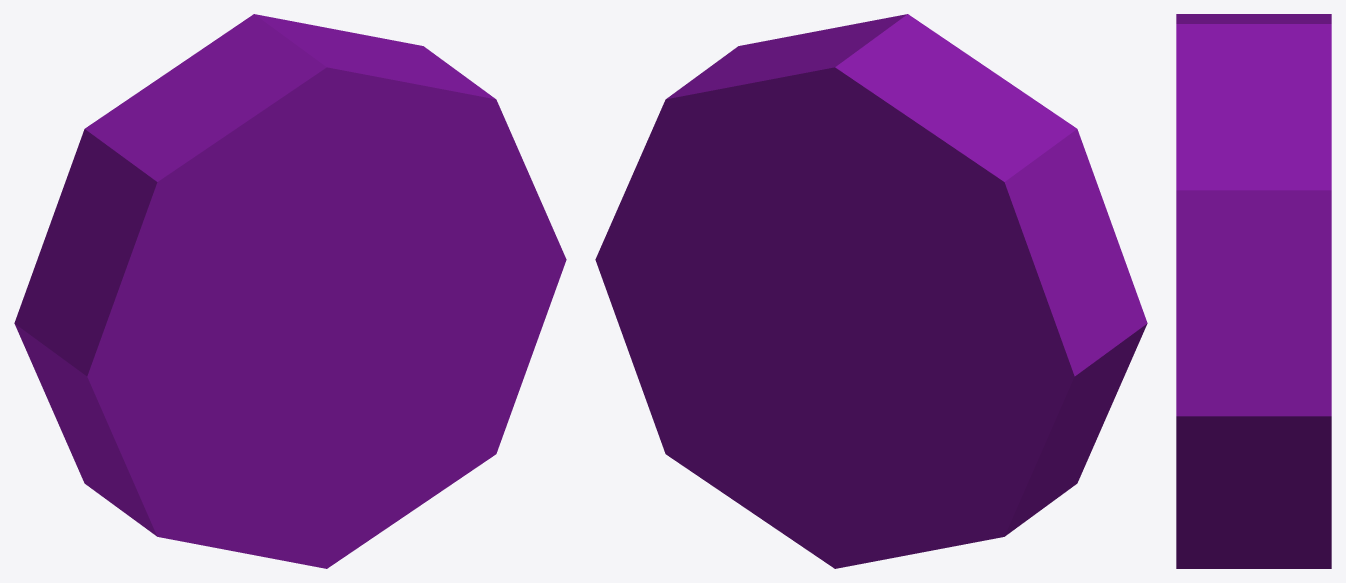
File: Boton10.fbx
3 views of the same model, side by side, from view 1: azimuth 30°, elevation 25°; view 2: azimuth 150°, elevation 25°; view 3: azimuth 270°, elevation 25° (orthographic). The views are drawn at different scales.
Parts seen in each view (by area): view 1: Boton10; view 2: Boton10; view 3: Boton10.
Part boxes in pixels (box(x1,y1,x2,y2)): Boton10: box(14, 14, 566, 568); Boton10: box(595, 14, 1147, 568); Boton10: box(1176, 14, 1331, 568).
Bounding box in the file's own units: 10 × 10 × 2.63.
